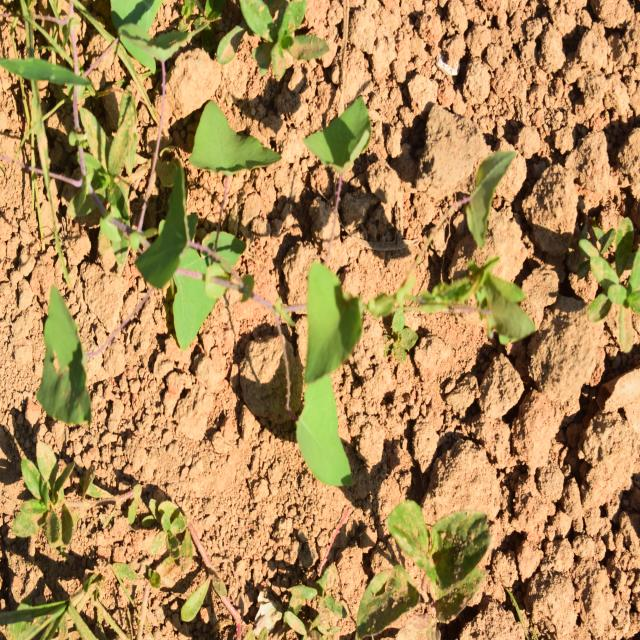Asiatic_Smartweed: (150, 102, 284, 346), (292, 263, 392, 497)
